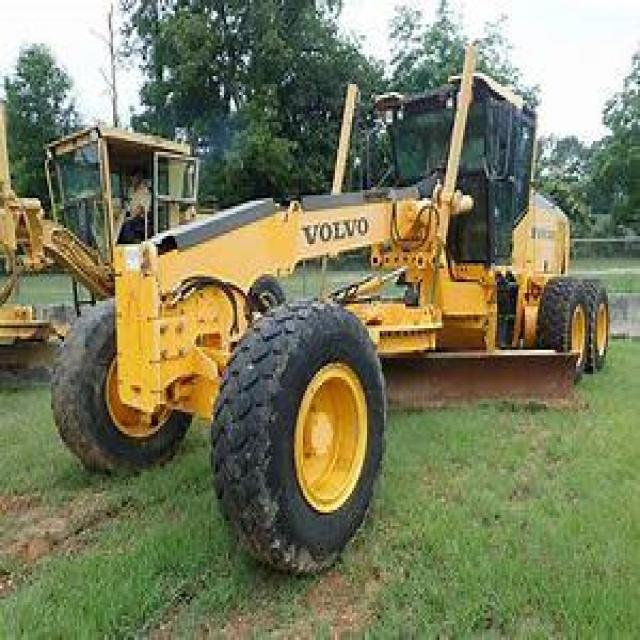Grader: (43, 60, 625, 575)
